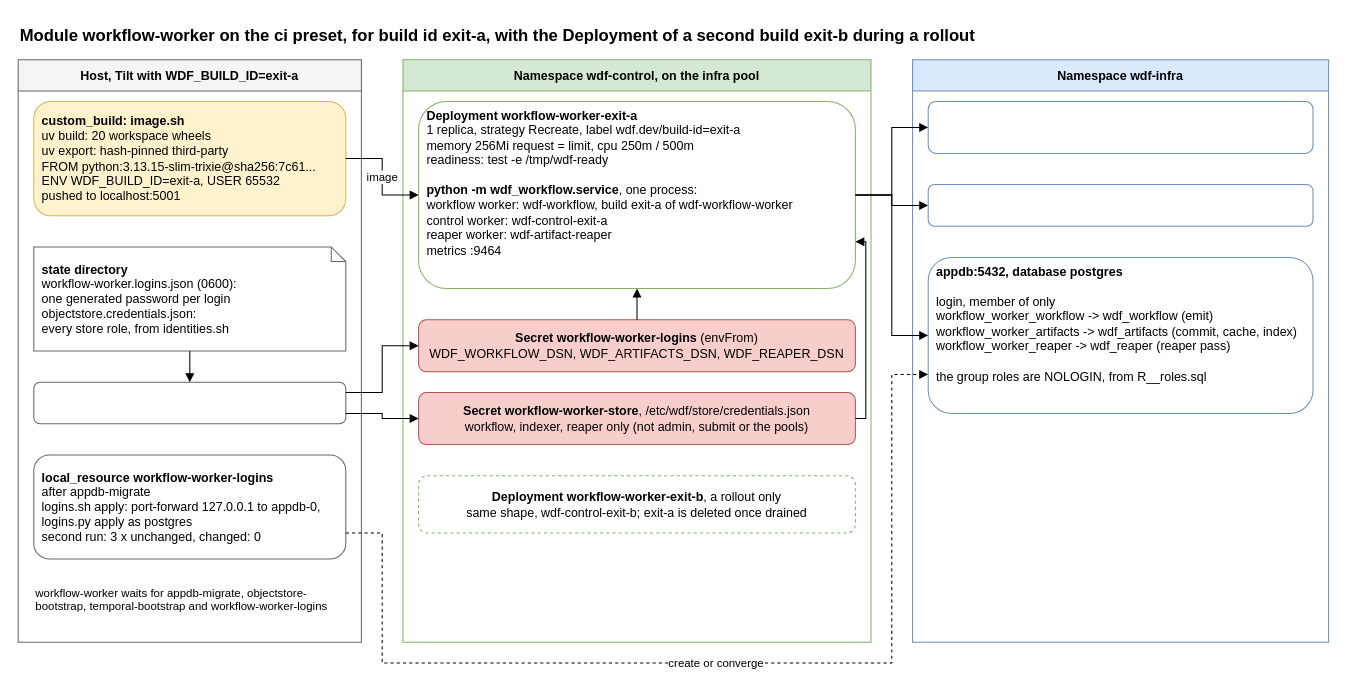
Image size: 1347x690. Some labels were removed from this diagram. The centre of each missing label's shape, as x and y in pixels:
"logins.py render at load: two Secrets" belongs at point 189,402.
"objectstore:8333" belongs at point 1120,205.
"temporal-frontend:7233 namespace wdf" belongs at point 1120,126.
